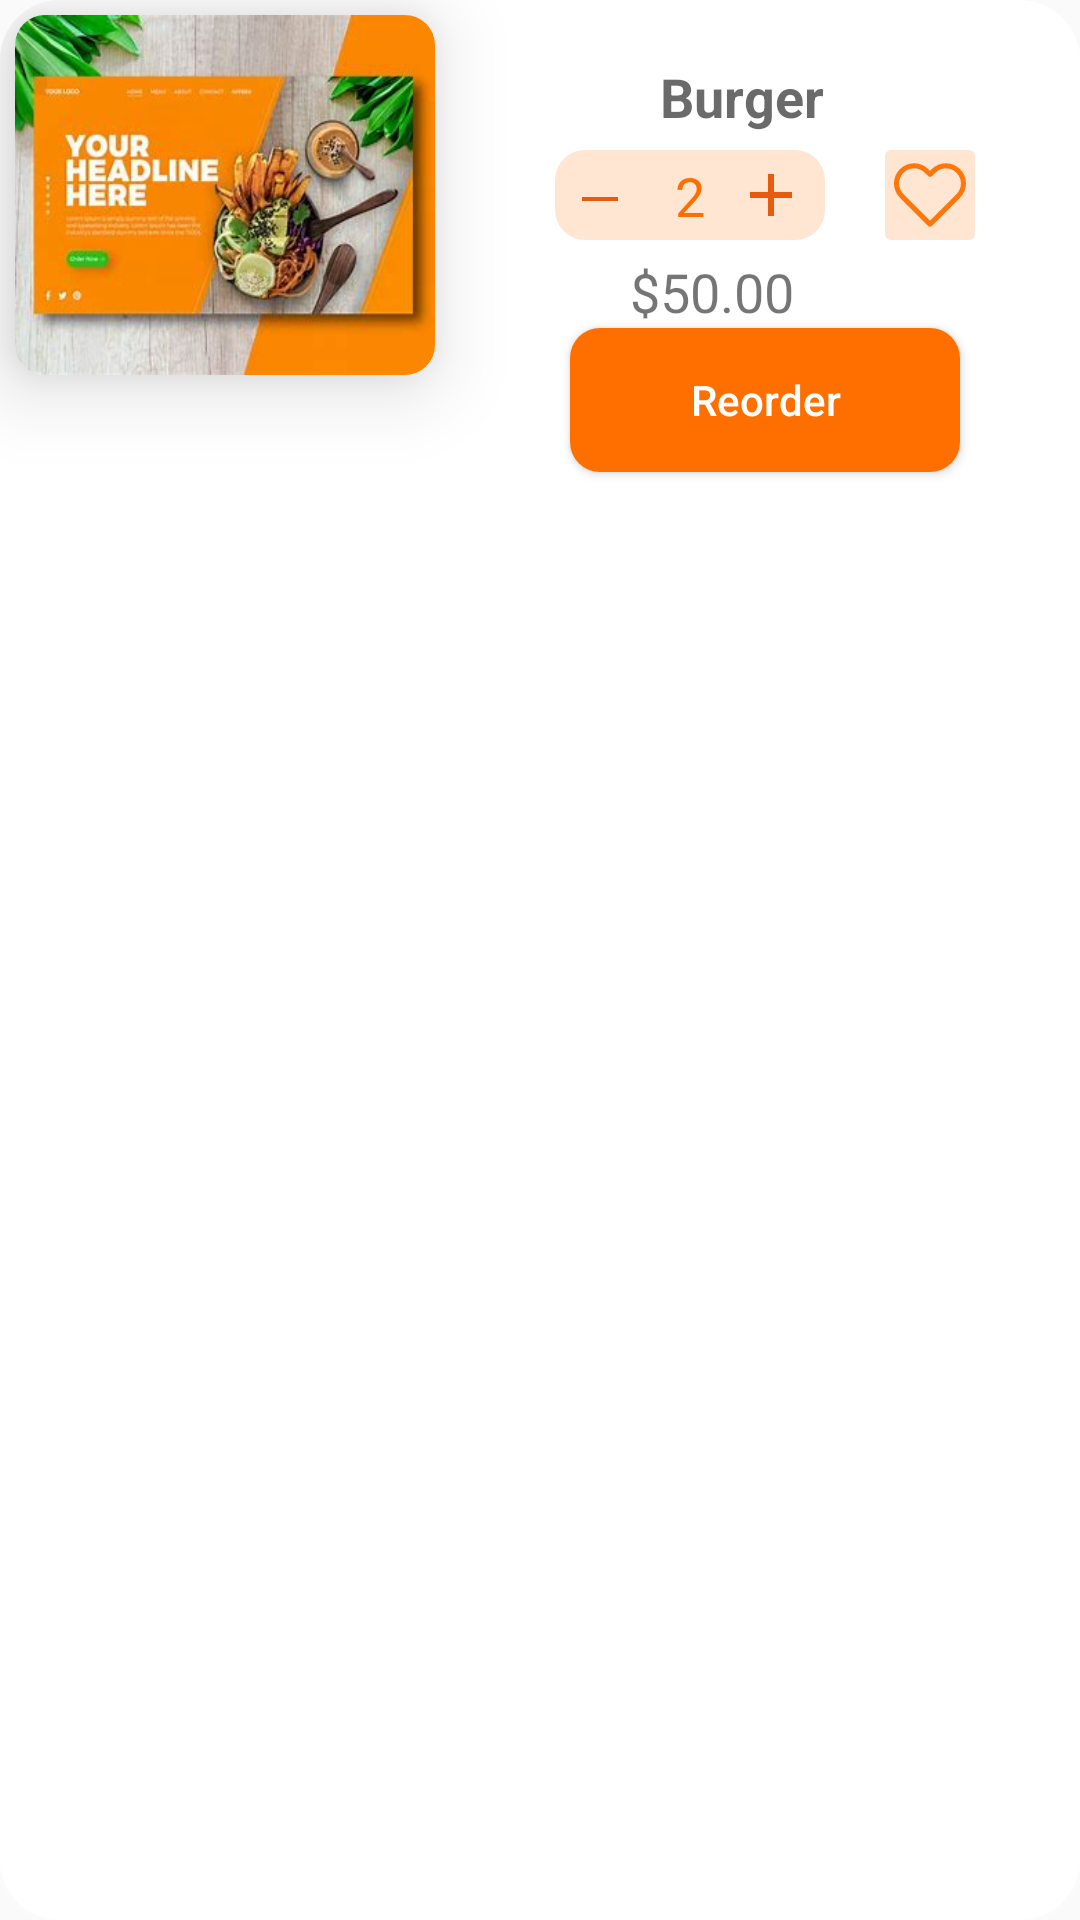

Icons on this 1080x1920 Android screen, each with the point to tap as (x,y):
add: (771,195)
heart: (930,195)
